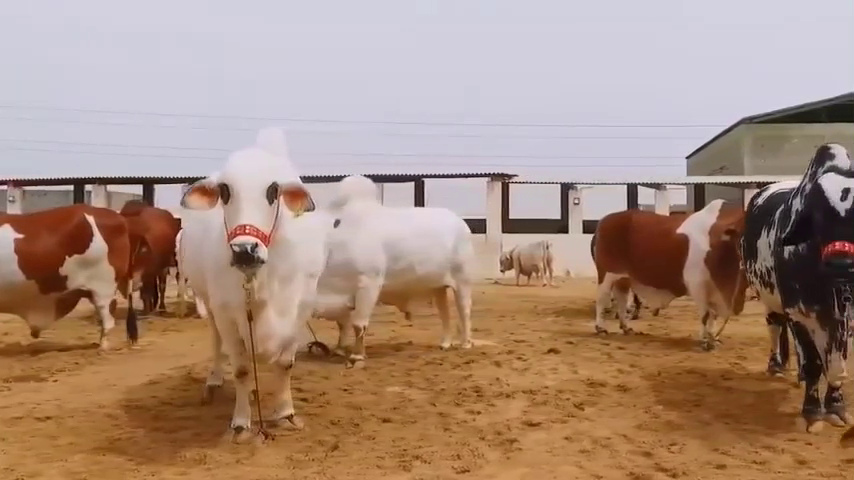bo: (183, 109, 329, 456), (301, 168, 479, 369), (748, 127, 854, 451), (590, 183, 747, 361), (2, 196, 139, 360), (114, 173, 180, 320), (493, 226, 565, 292)
